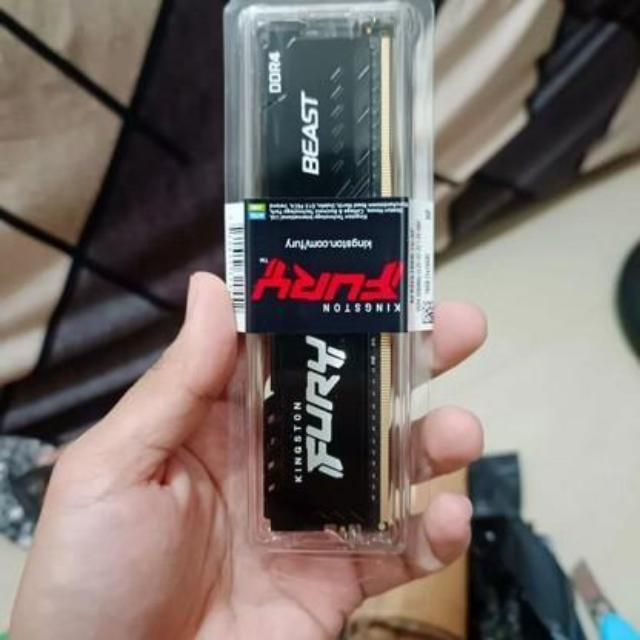RAM: (250, 8, 412, 537)
